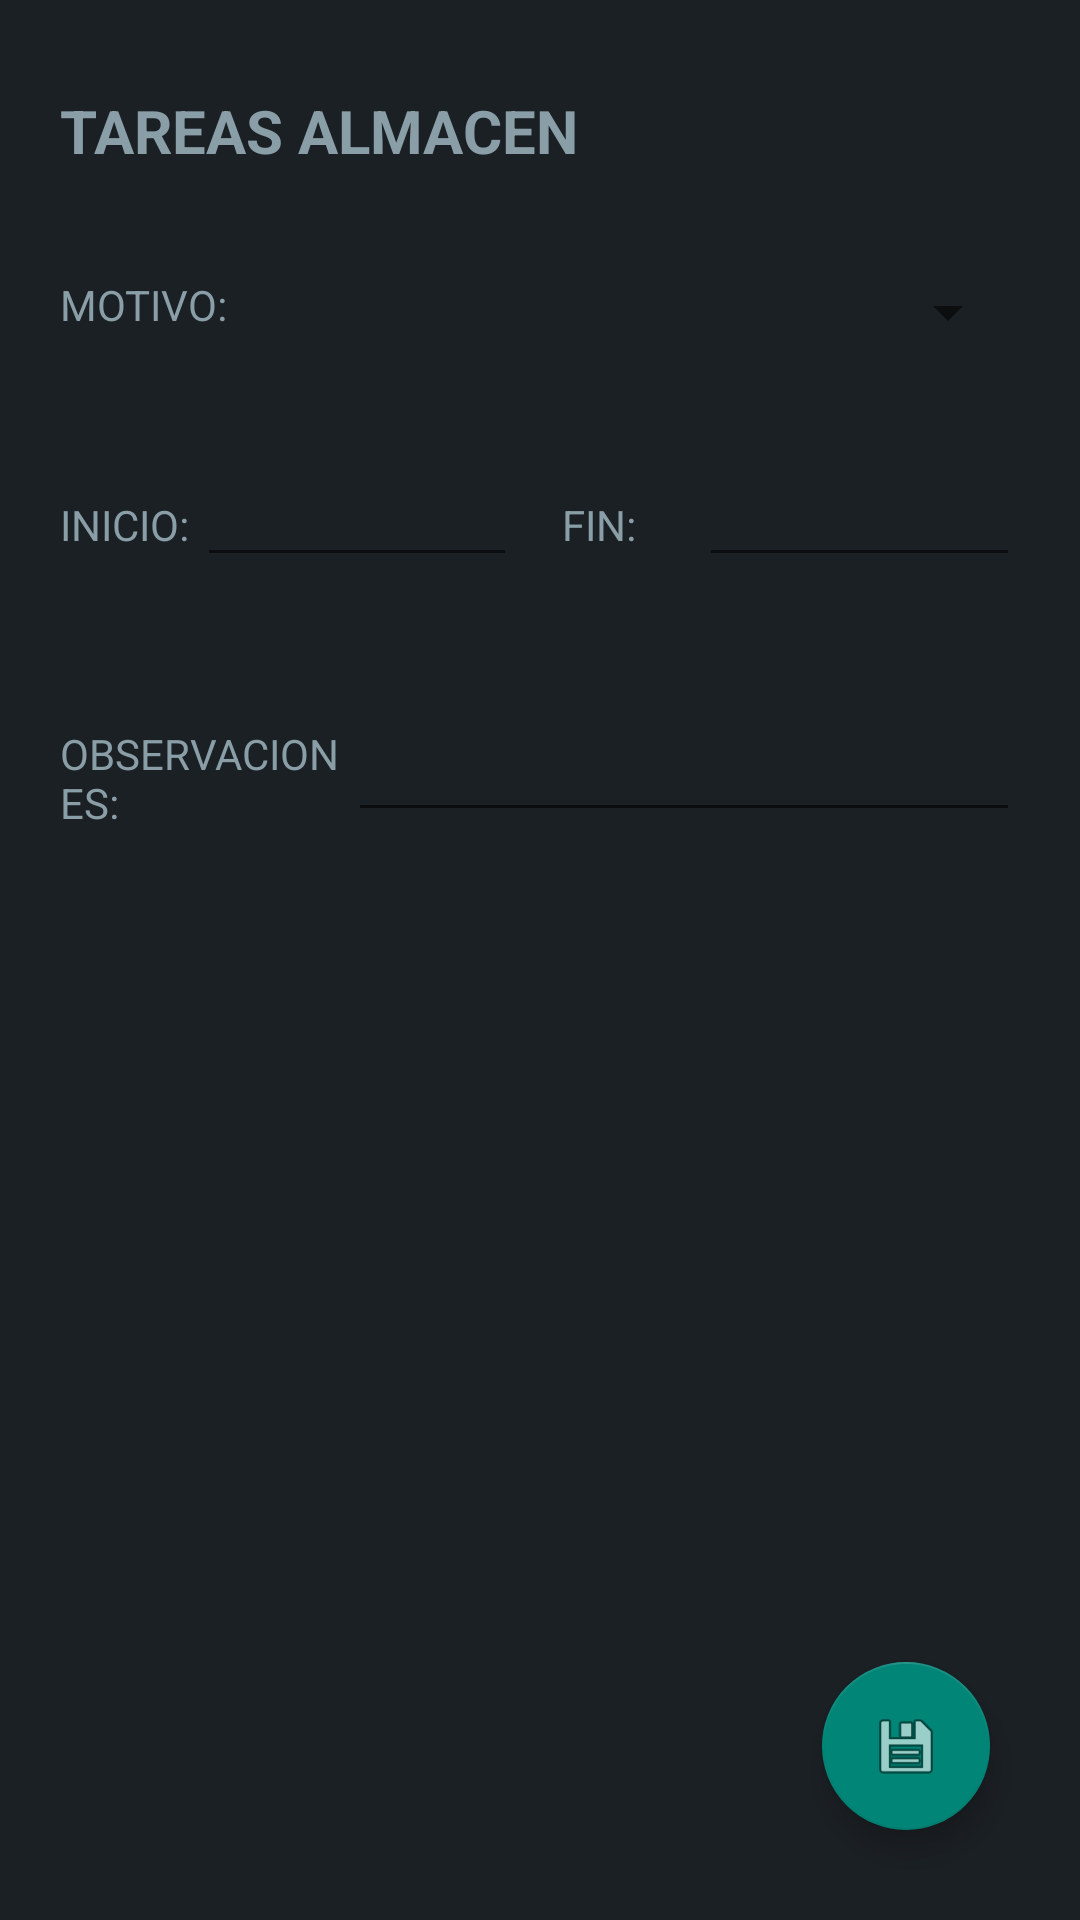

Icons on this 1080px×1920px Android screen, each with its box as (x1, y1, x2, y2):
save: (822, 1662, 990, 1830)
